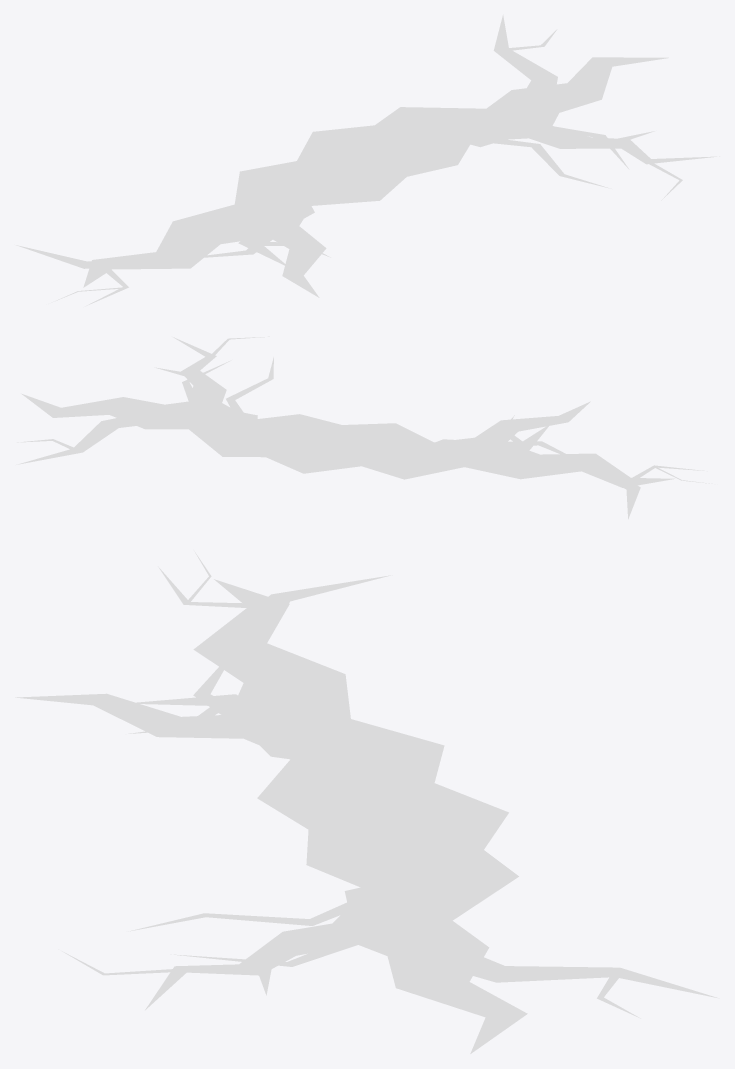
The model's file is RoadBreakLight.obj.
3 views of the same model, one above another, from view 1: azimuth 30°, elevation 25°; view 2: azimuth 150°, elevation 25°; view 3: azimuth 270°, elevation 25° (orthographic). The views are drawn at different scales.
Visible parts, largest first — view 1: RoadBreakLight; view 2: RoadBreakLight; view 3: RoadBreakLight.
Part boxes in pixels (x1,y1,x2,y2): RoadBreakLight: (16,14,719,306); RoadBreakLight: (16,336,712,519); RoadBreakLight: (15,551,719,1053).
Bounding box in the file's own units: 26.97 × 0.04 × 15.87.
1 material, 1 textured.
